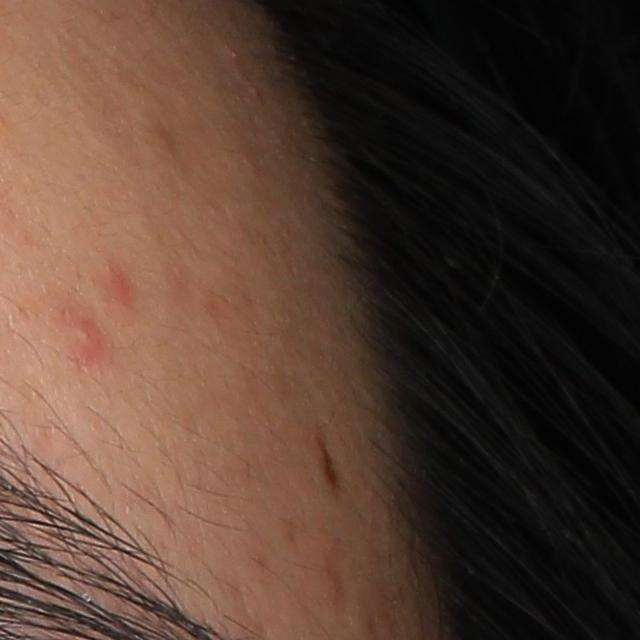papule: (66, 315, 103, 359)
